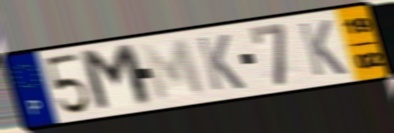5: (42, 51, 92, 117)
7: (247, 20, 291, 89)
K: (296, 18, 350, 79), (194, 32, 248, 93)
M: (77, 41, 158, 115), (138, 36, 209, 104)
